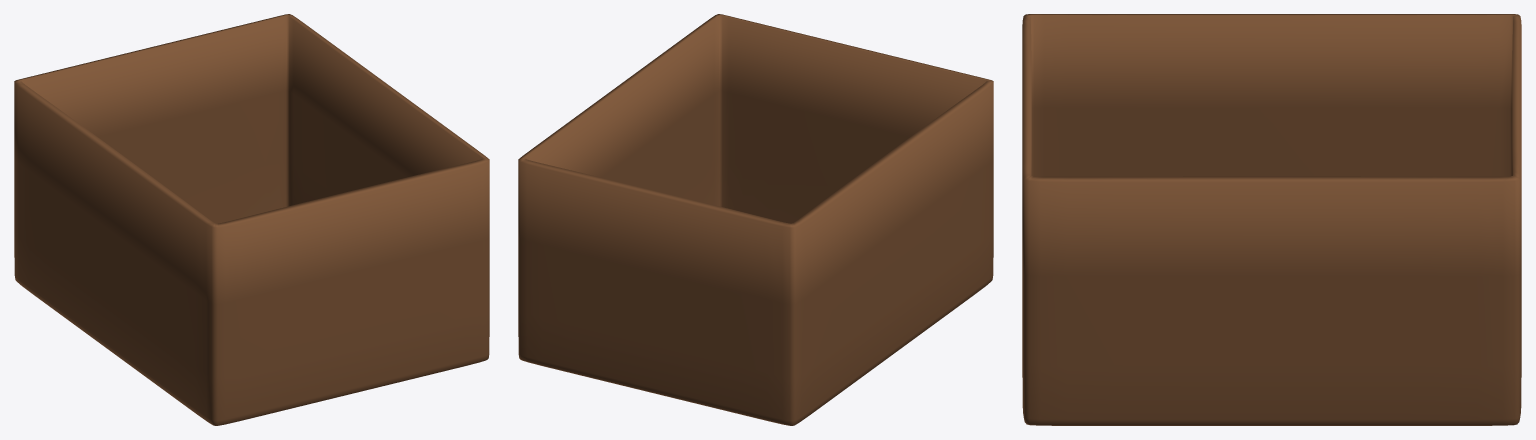
Rendered from box armour.fbx.
The picture shows the model from 3 angles, left to right: view 1: azimuth 30°, elevation 25°; view 2: azimuth 150°, elevation 25°; view 3: azimuth 270°, elevation 25°; orthographic projection. The views are drawn at different scales.
Visible parts, largest first — view 1: Cube.003; view 2: Cube.003; view 3: Cube.003.
Boxes of the visible parts, x1,y1,x2,y2 form: Cube.003: (14,14,489,425); Cube.003: (518,14,993,425); Cube.003: (1022,14,1521,425).
Size of the model in its own units: 476 by 329 by 598.
